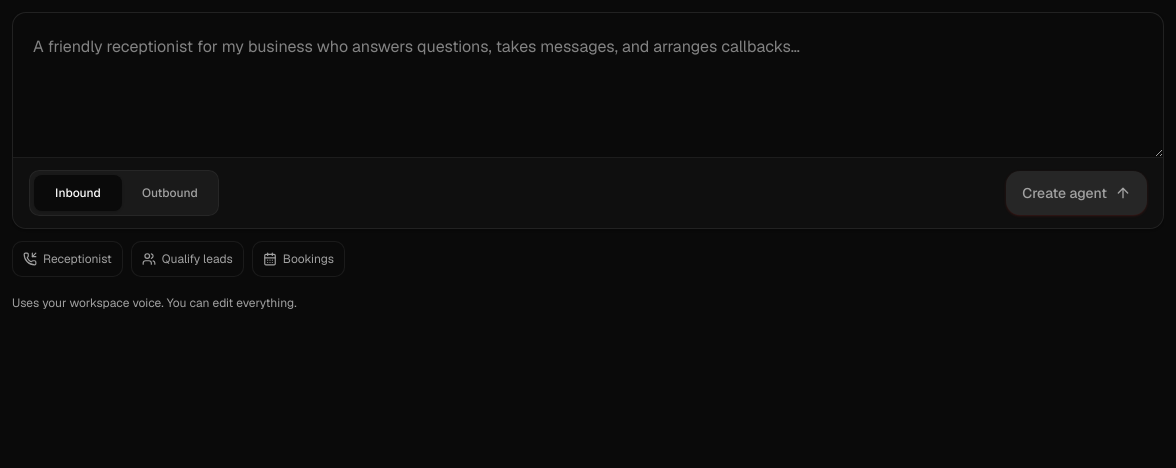
Test case: QuickAgentComposer setup recovery › shows model configuration action without creating when workspace voice is missing
The width and height of the screenshot is (1176, 468).
Replace the text in the text box named "Describe your agent" with "A friendly HVAC receptionist who collects callback details." at (588, 85), box [13,13,1163,157]
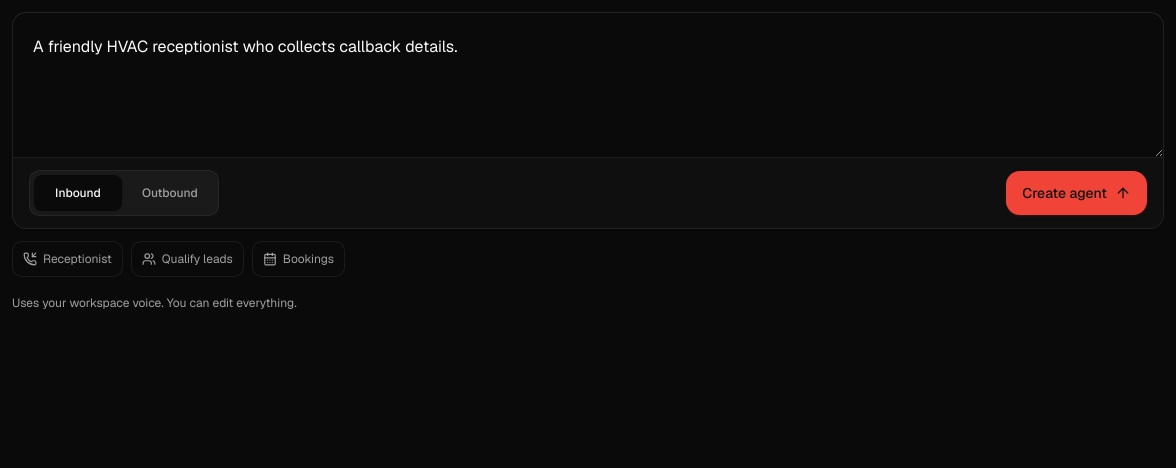
Click the radio button labelled "outbound" at (170, 193), box [142,185,198,201]
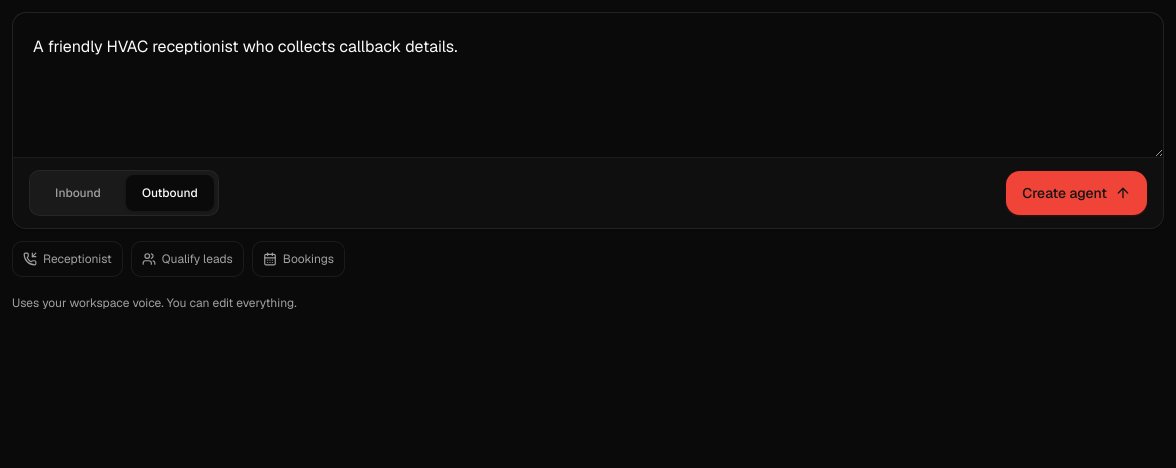
Click the button "Create agent" at (1077, 193), box [1006,171,1147,215]
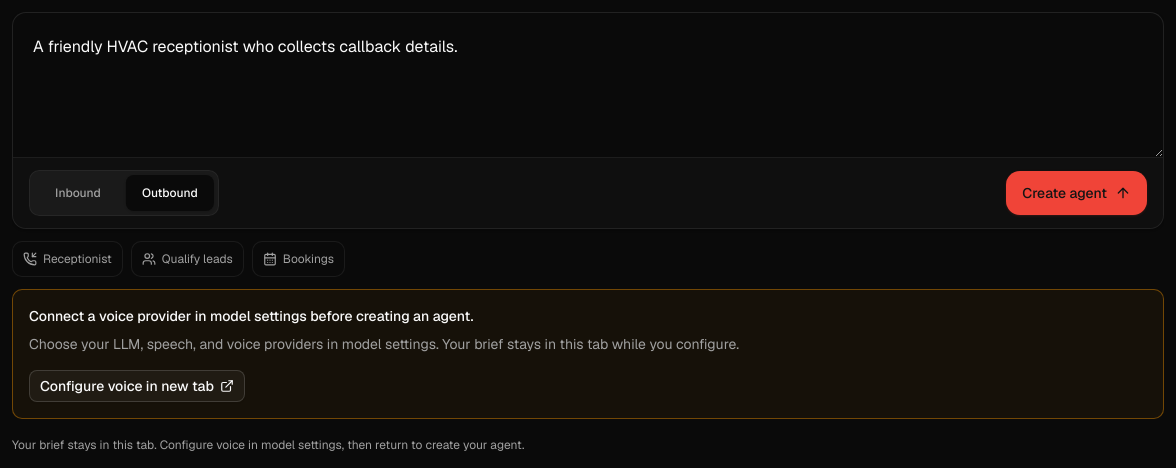
Expected: the radio button labelled "outbound" is checked, [142,185,198,201]
Expected: the 1st message shows "Connect a voice provider in model settings", [29,307,474,325]
